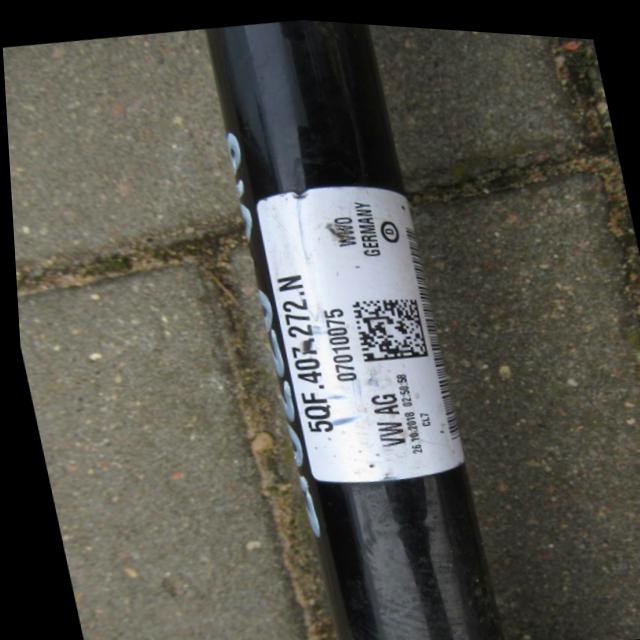datamatrix: (348, 287, 426, 361)
